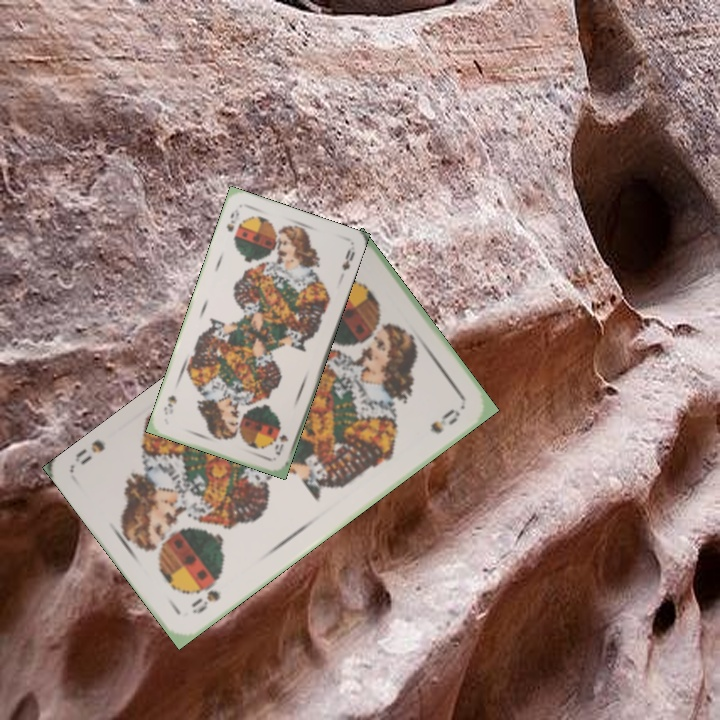SO: (187, 579, 223, 617), (222, 205, 242, 234), (271, 431, 291, 458)
